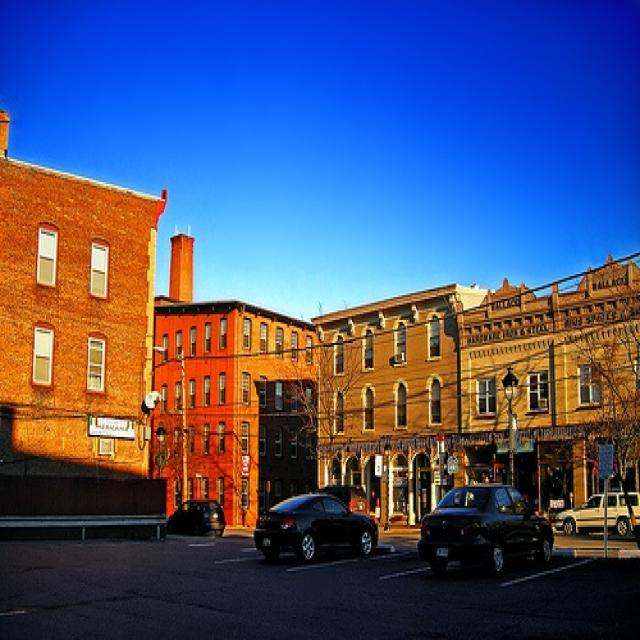car: (416, 477, 559, 586), (251, 489, 384, 569), (556, 487, 638, 540), (166, 493, 228, 544)
